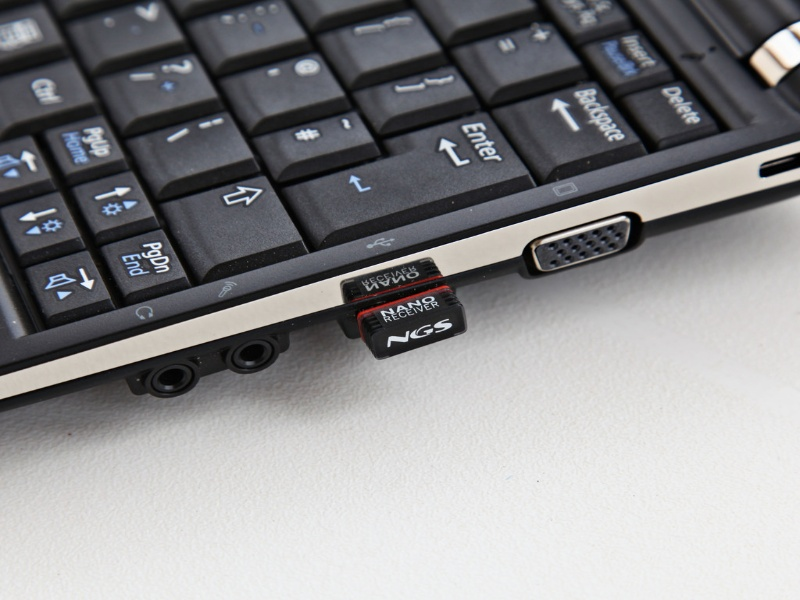laptop: (2, 3, 800, 443)
